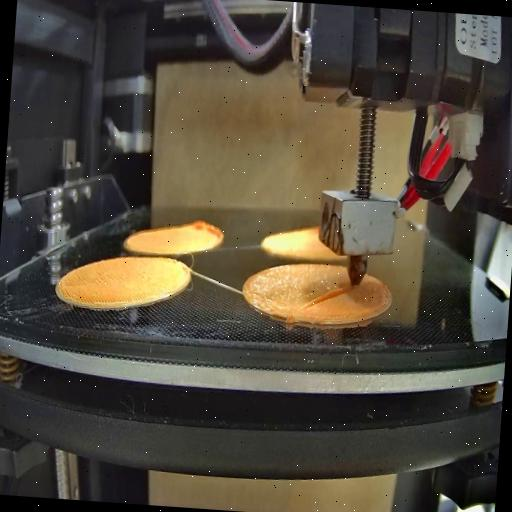over_extrusion: (302, 280, 356, 314), (187, 216, 226, 252)
